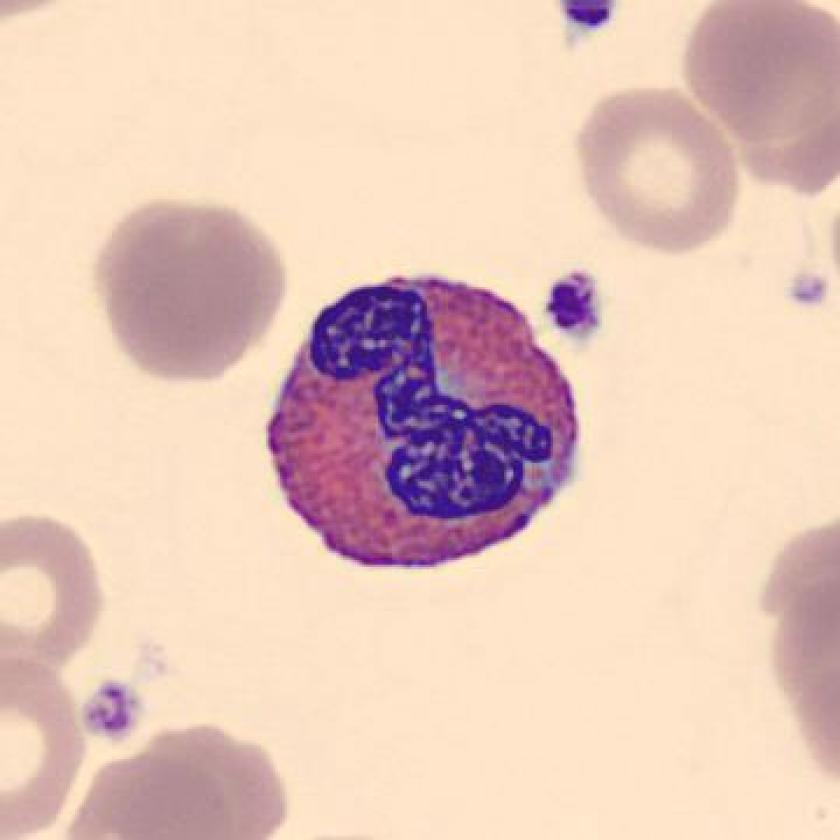eosinophil: (253, 260, 594, 598)
